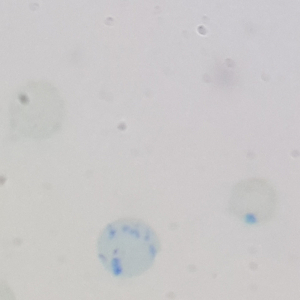aggregate reticulocyte: (94, 216, 161, 279)
erythrocyte: (5, 77, 67, 143), (226, 175, 279, 227)
